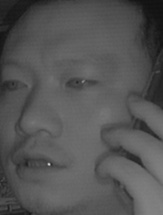eye: (64, 71, 99, 92), (2, 74, 30, 94)
mouth: (10, 144, 68, 182)
